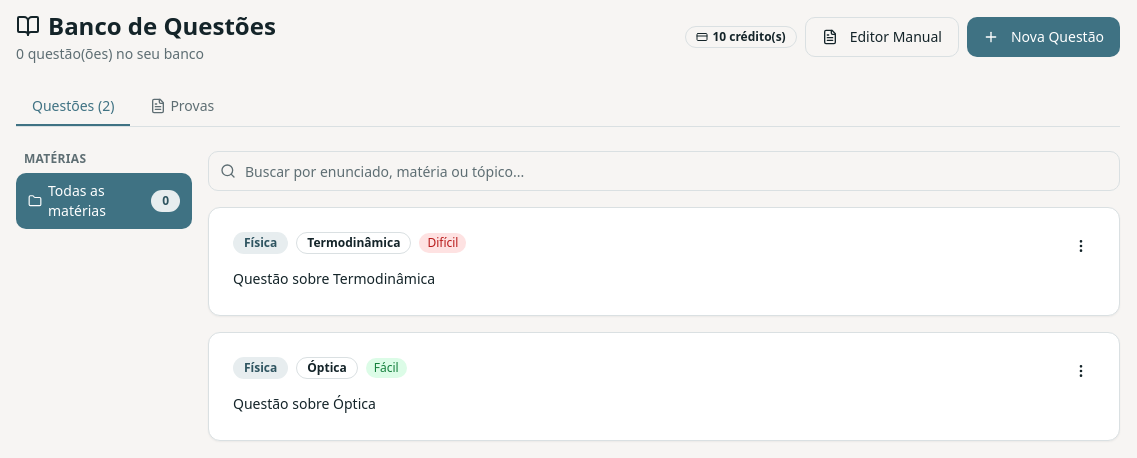
it: QuestionBankPage › search filters questions by topic match
Step 1. Type "Termodinâmica" into the field with placeholder "Buscar por enunciado, matéria ou tópico..." → (664, 171), box [208,151,1120,191]
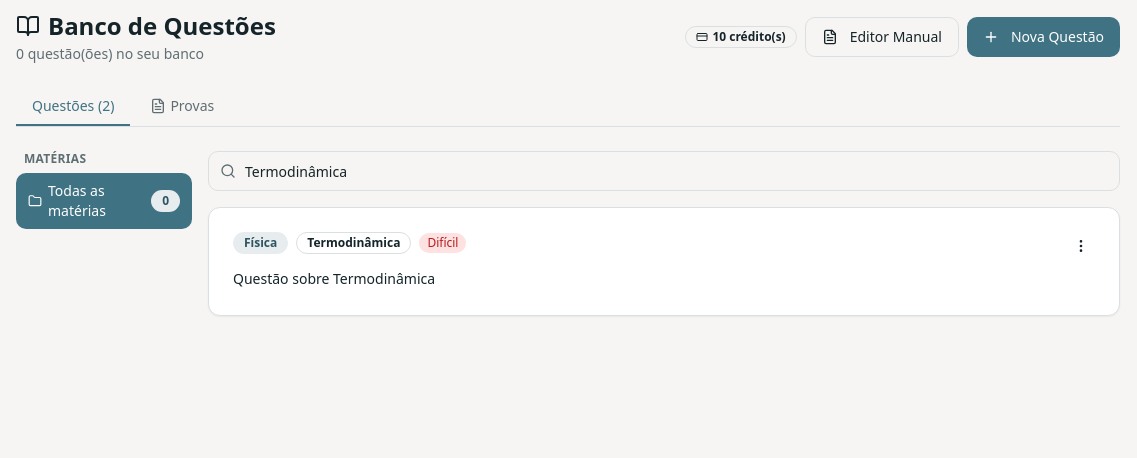
Expected: the text "Questão sobre Termodinâmica" is shown, [233,269,435,288]
Expected: the text "Questão sobre Óptica" is gone
